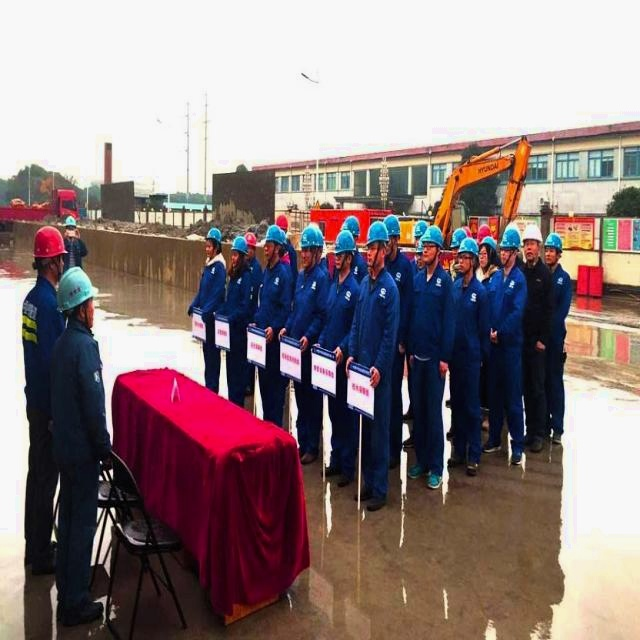Con_Casco: (34, 226, 66, 278), (367, 221, 389, 268), (205, 227, 221, 254)
